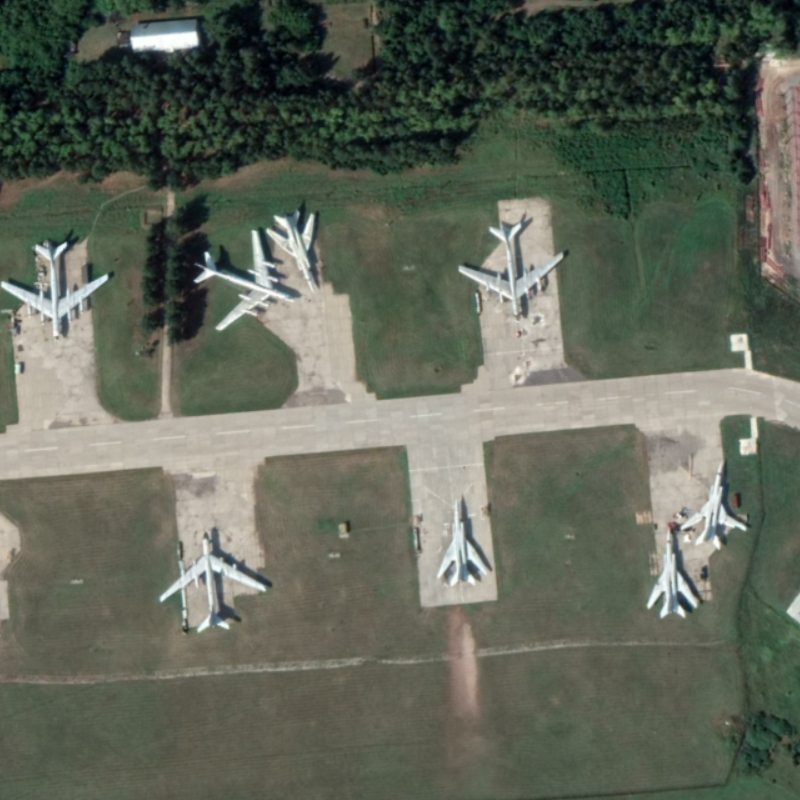A12: (677, 459, 749, 552), (644, 525, 699, 621), (434, 496, 490, 588), (265, 209, 319, 294)
A17: (157, 529, 268, 634), (1, 239, 110, 342), (457, 219, 566, 322), (192, 228, 296, 333)
